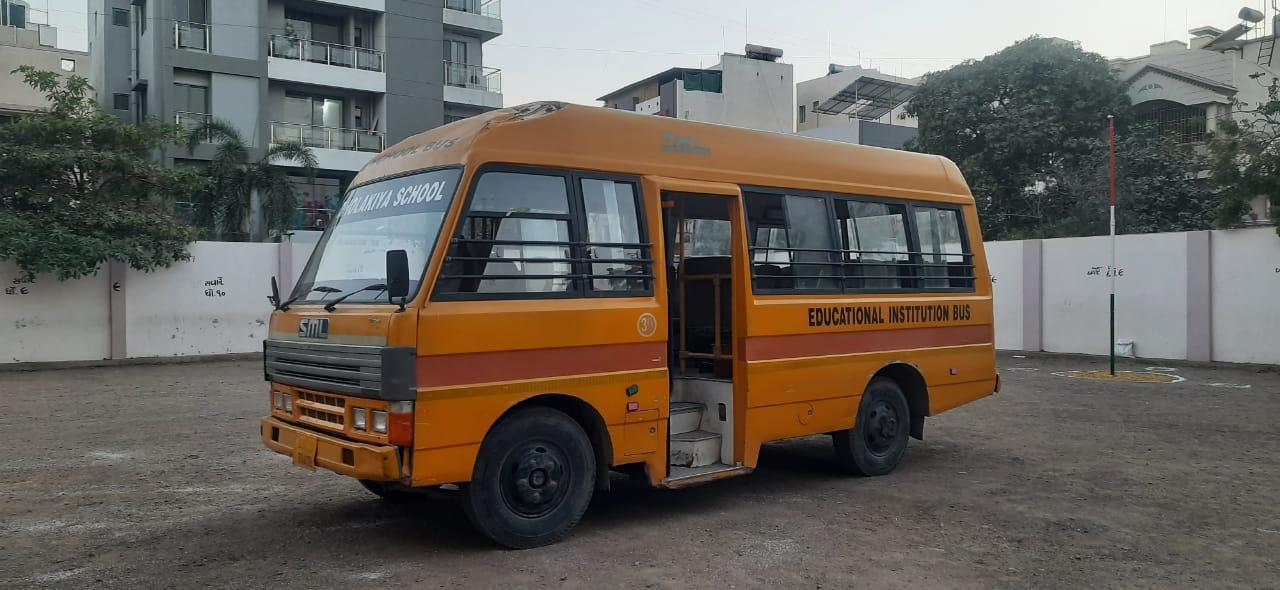Bus: (252, 79, 1017, 549)
